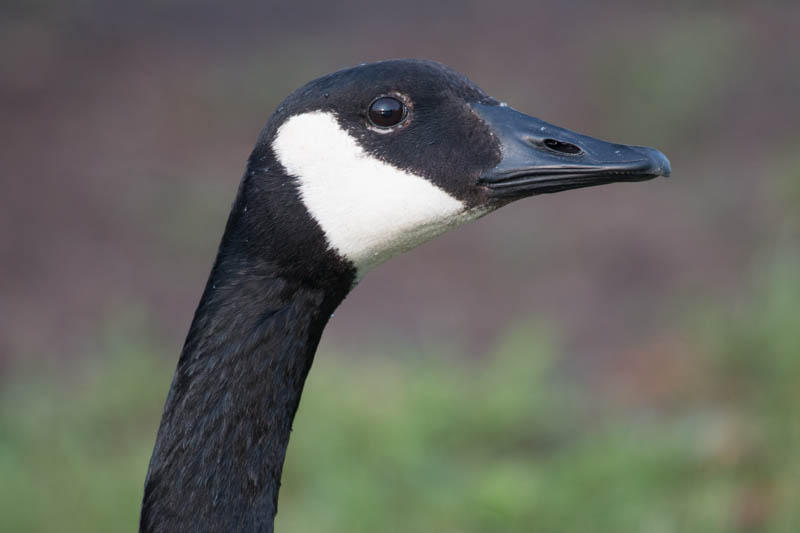goose-head: (232, 58, 670, 288)
